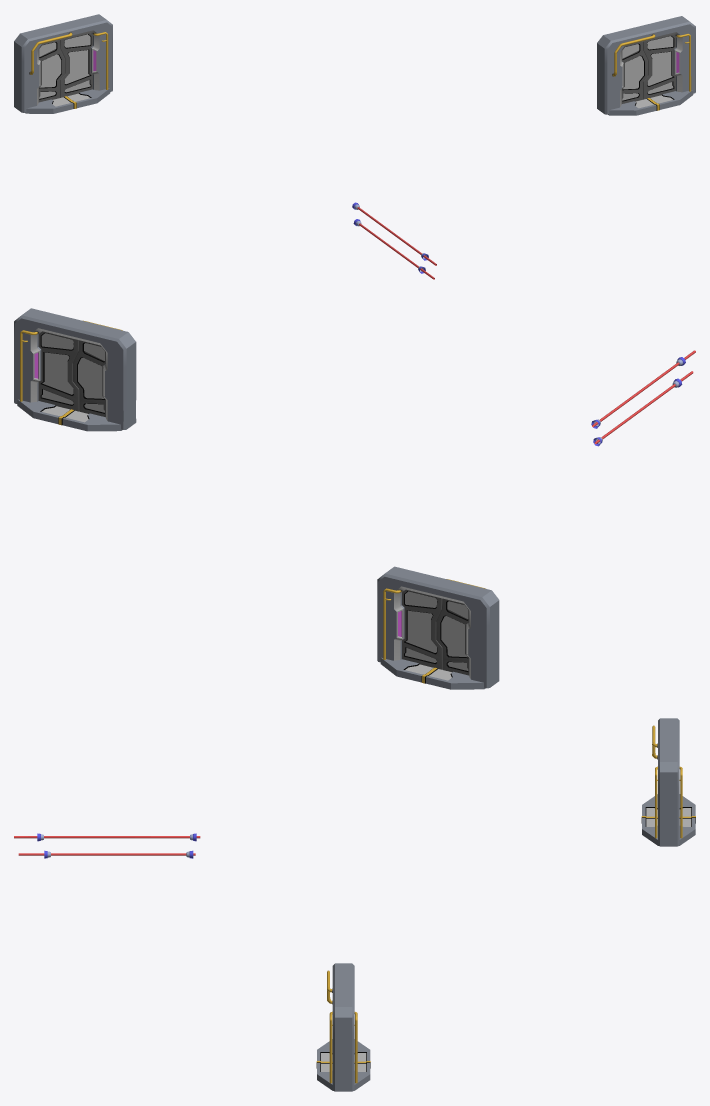
File: Level31_Objects.fbx
3 views of the same model, one above another, from view 1: azimuth 30°, elevation 25°; view 2: azimuth 150°, elevation 25°; view 3: azimuth 270°, elevation 25° (orthographic). The views are drawn at different scales.
Parts seen in each view (by area): view 1: Base (×2), Right (×2), Left (×2), Base5 (×2); view 2: Base (×2), Right (×2), Left (×2), Base5 (×2); view 3: Base (×2), Base5 (×2).
Part boxes in pixels (<box>): Base (×2): <box>14,14,695,114</box>; Right (×2): <box>60,33,675,99</box>; Left (×2): <box>38,40,648,103</box>; Base5 (×2): <box>25,88,693,115</box>; Base (×2): <box>14,308,499,688</box>; Right (×2): <box>38,331,442,669</box>; Left (×2): <box>73,340,469,675</box>; Base5 (×2): <box>17,399,485,689</box>; Base (×2): <box>332,718,679,1091</box>; Base5 (×2): <box>316,794,695,1090</box>.
Size of the model in its own units: 317 by 43.75 by 313.
